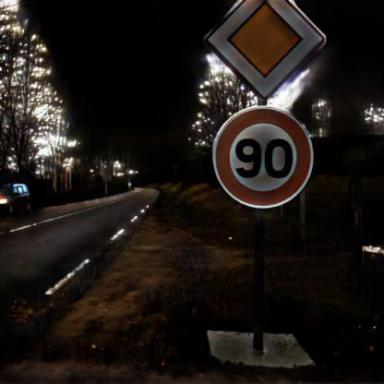Speed_limit_90: (217, 111, 313, 207)
